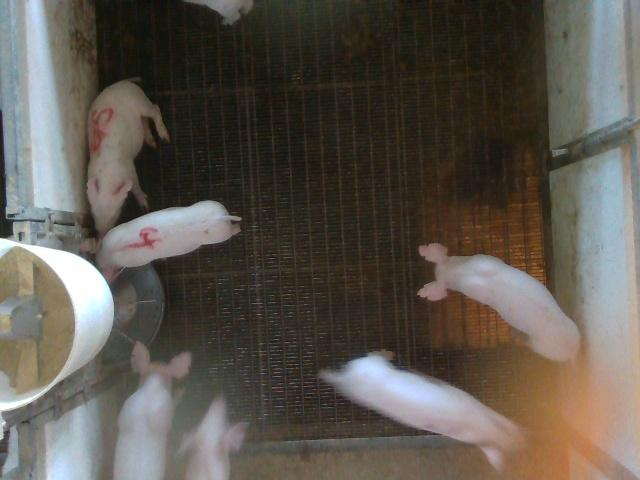pig-4: (96, 201, 241, 281)
pig-5: (88, 78, 170, 239)
